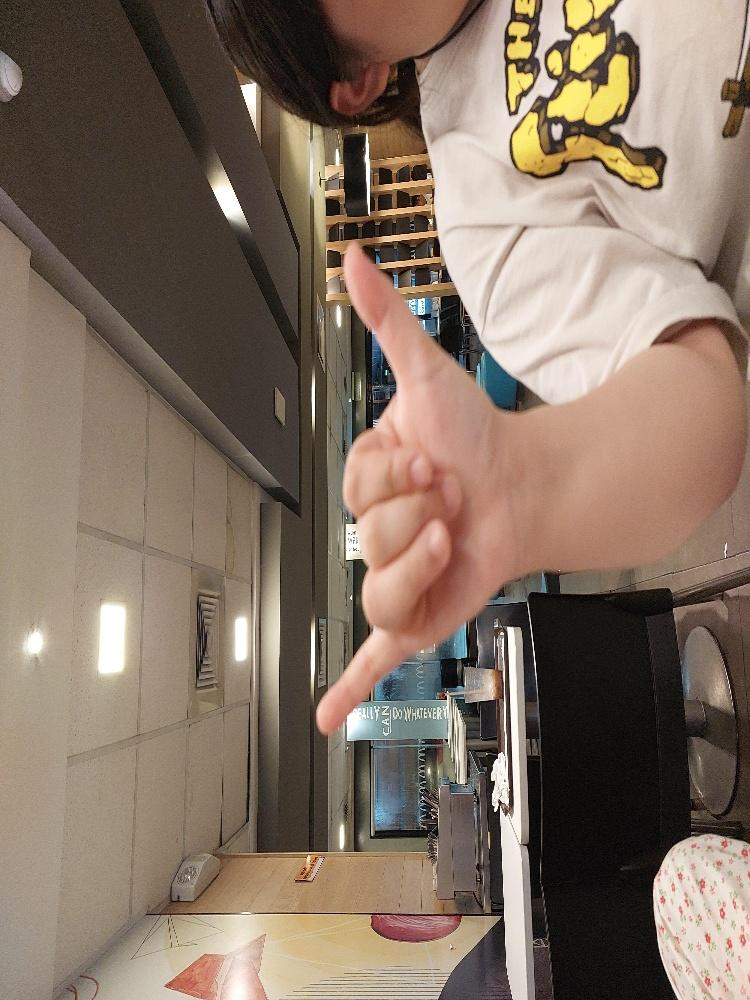y: (196, 416, 571, 694)
